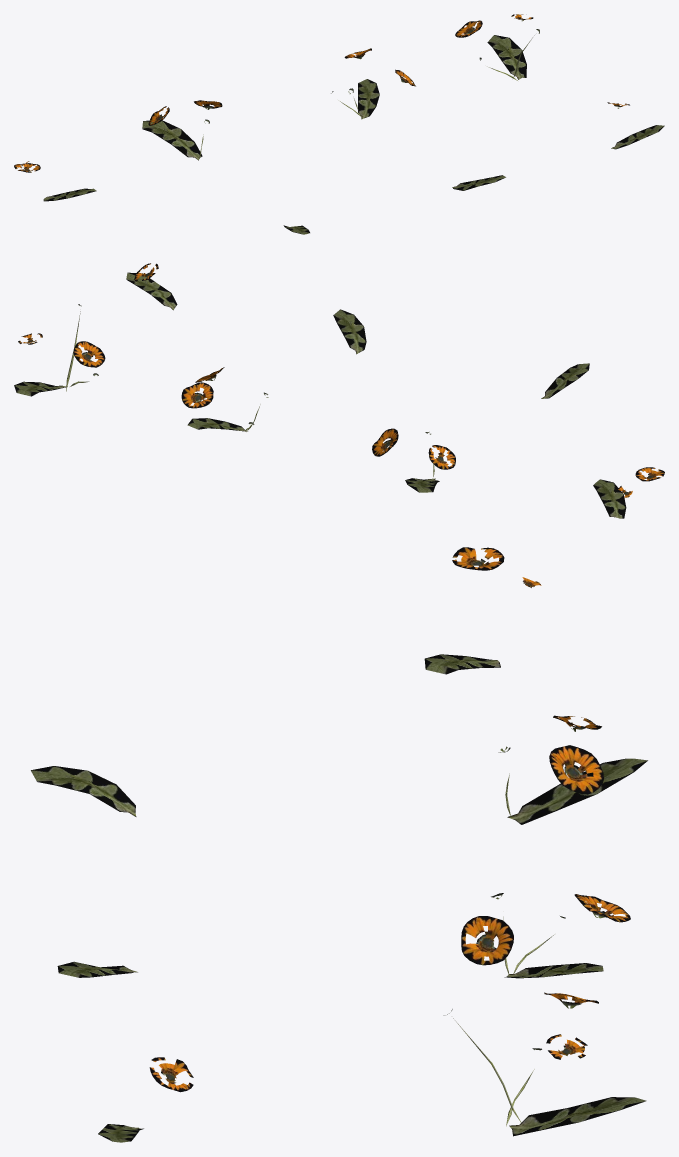
Rendered from fleurs_gazania_lod1.glb.
The picture shows the model from 3 angles, top to bottom: view 1: azimuth 30°, elevation 25°; view 2: azimuth 150°, elevation 25°; view 3: azimuth 270°, elevation 25°; orthographic projection. The views are drawn at different scales.
Parts seen in each view (by area): view 1: flower_gazania_a_LOD0; view 2: flower_gazania_a_LOD0; view 3: flower_gazania_a_LOD0.
Boxes of the visible parts, bbox=[...] form: flower_gazania_a_LOD0: bbox=[14, 14, 664, 234]; flower_gazania_a_LOD0: bbox=[14, 263, 664, 518]; flower_gazania_a_LOD0: bbox=[31, 547, 647, 1142].
Bounding box in the file's own units: 1.4 × 0.151 × 0.6734.
1 material, 1 textured.
